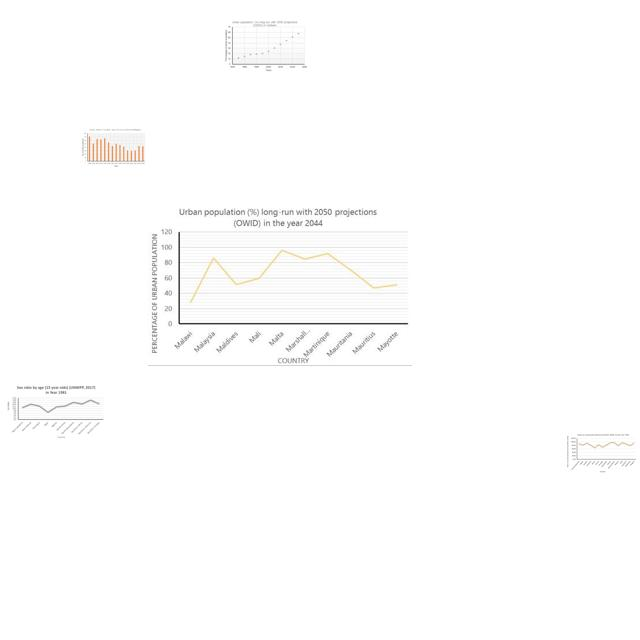Graph: (148, 204, 412, 366), (7, 384, 105, 440), (223, 20, 308, 72), (566, 433, 637, 473), (79, 127, 146, 167)
